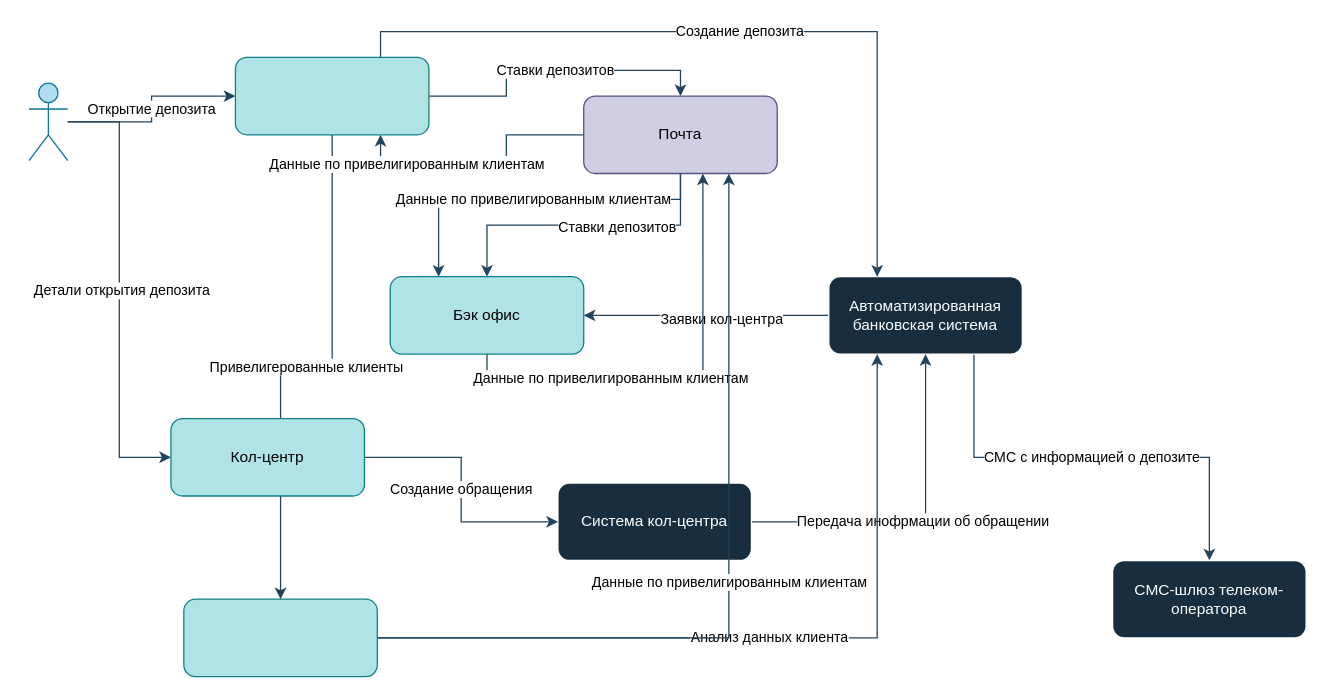
This 1329x699 diagram has some shape labels left out. Each missing label, with the box of its shape:
Клиент: (28, 82, 68, 161)
Отдел кредитования: (183, 598, 377, 677)
Фронт-офис: (234, 56, 429, 135)
